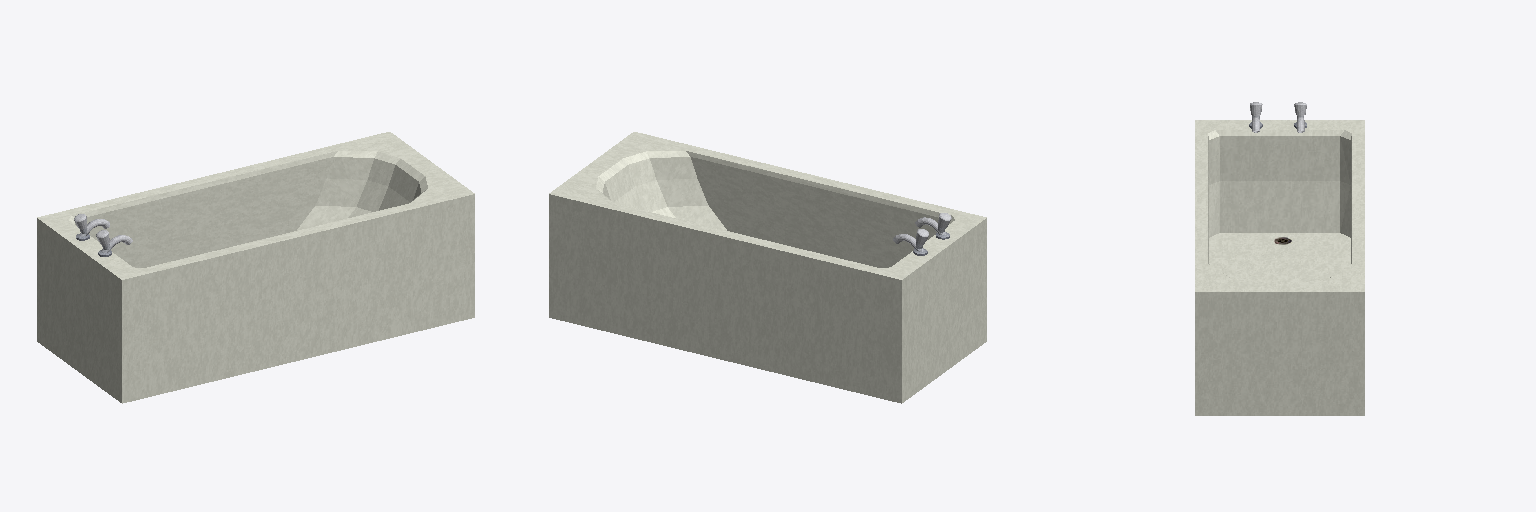
The picture shows the model from 3 angles: view 1: azimuth 30°, elevation 25°; view 2: azimuth 150°, elevation 25°; view 3: azimuth 270°, elevation 25°; orthographic projection.
Visible parts, largest first — view 1: bath_1; view 2: bath_1; view 3: bath_1.
Part boxes in pixels (x1,y1,x2,y2): bath_1: (37,132,474,403); bath_1: (549,132,986,403); bath_1: (1195,102,1364,415).
Bounding box in the file's own units: 17 × 6.76 × 7.12.
Materials: 1 (1 with a texture image).